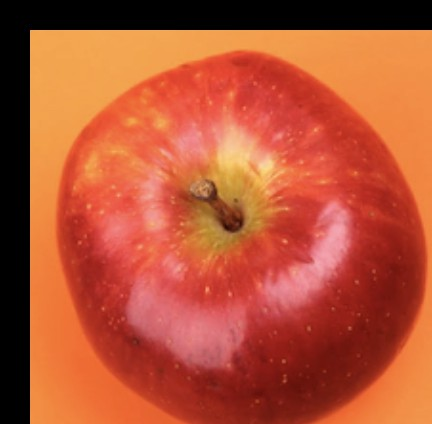fresh_apple: (58, 47, 430, 424)
